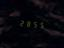eight: (24, 19, 29, 27)
five: (30, 19, 35, 28), (36, 20, 41, 28)
two: (18, 18, 23, 27)
